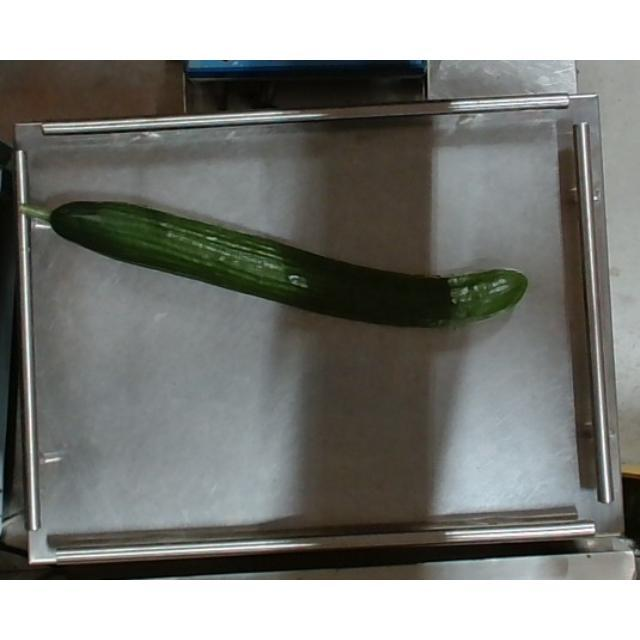cucumber: (1, 194, 550, 332)
